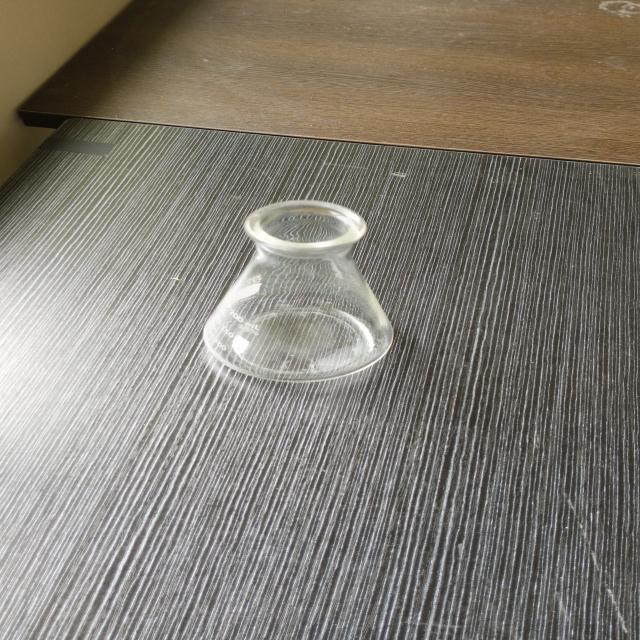erlenmeyer_flask: (202, 194, 396, 386)
